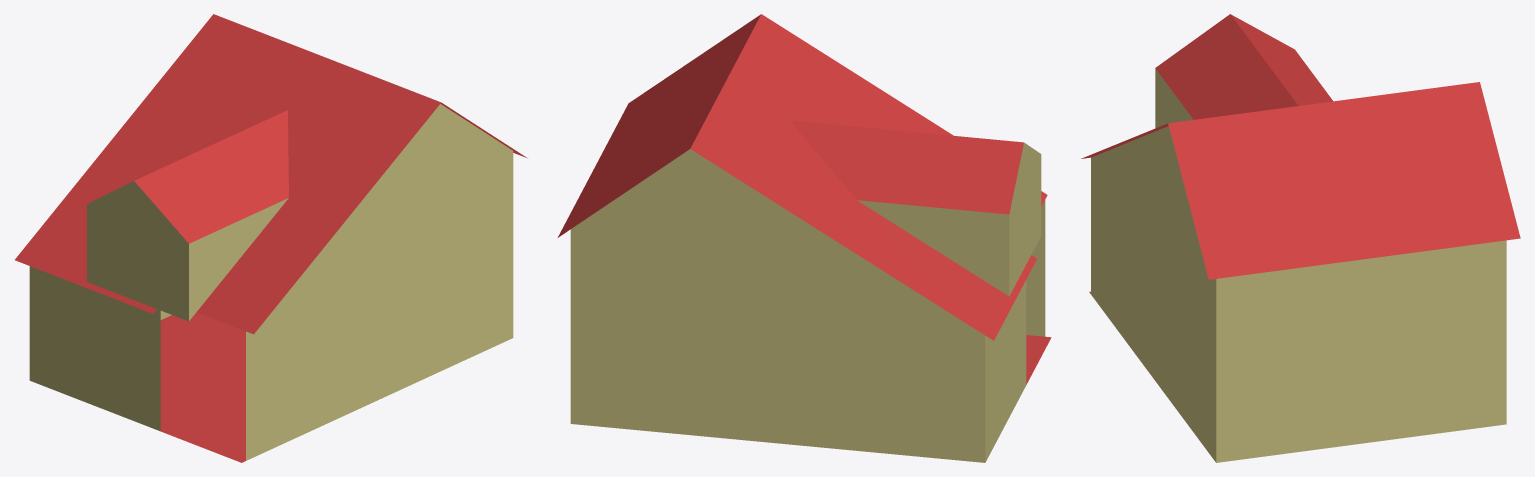
3 renders of one model, left to right at view 1: azimuth 30°, elevation 25°; view 2: azimuth 150°, elevation 25°; view 3: azimuth 270°, elevation 25°, orthographic. The views are drawn at different scales.
Size of the model in its own units: 23.25 by 19.53 by 14.23.
